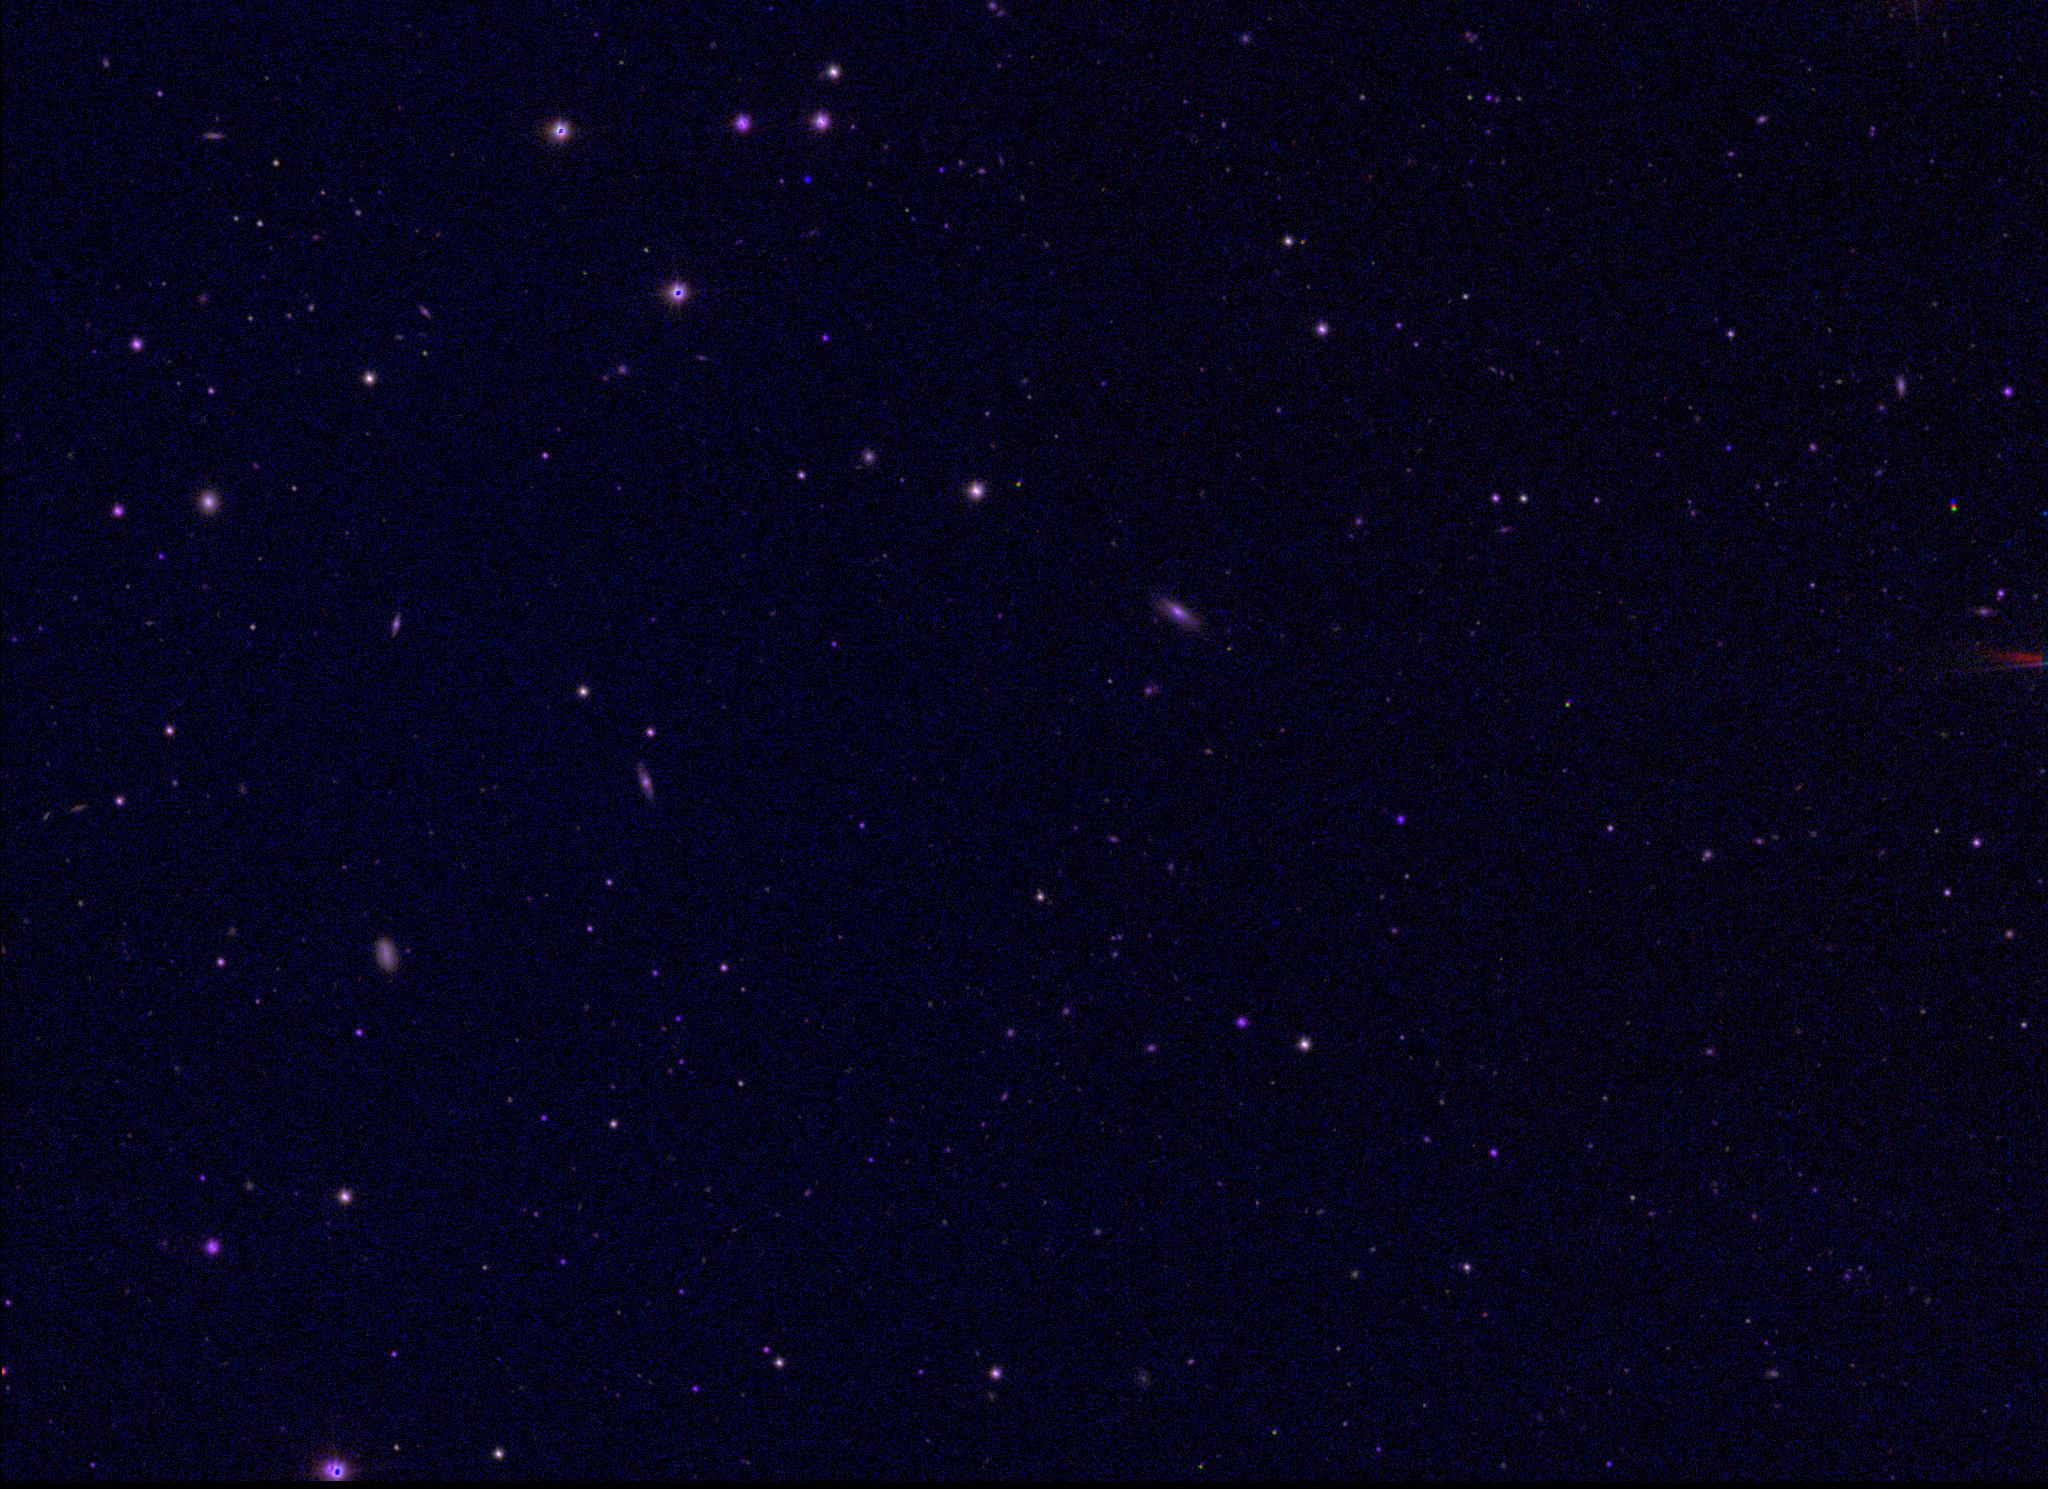L: (797, 177, 811, 189)
